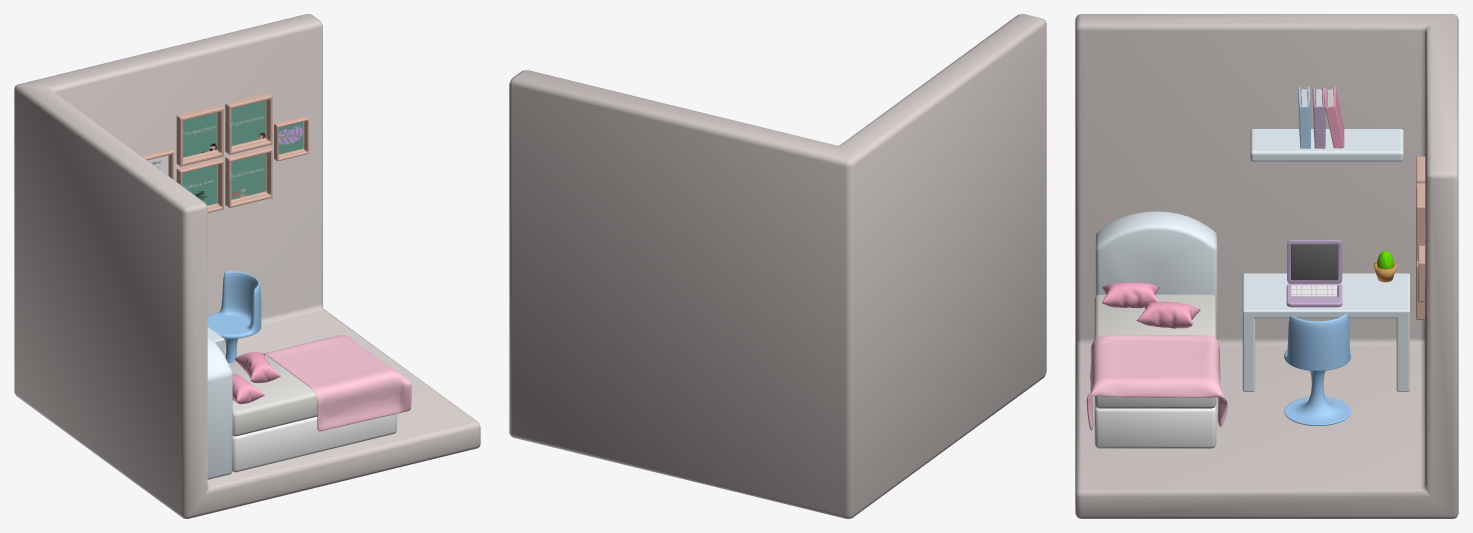
The picture shows the model from 3 angles, left to right: view 1: azimuth 30°, elevation 25°; view 2: azimuth 150°, elevation 25°; view 3: azimuth 270°, elevation 25°; orthographic projection. The views are drawn at different scales.
Parts seen in each view (by area): view 1: Cube, Plano017, Plano005, Plano, Plano002, Plano001, Cilindro001, Plano004, Plano003; view 2: Cube; view 3: Cube, Plano001, Plano005, Plano006, Cilindro001, Plano, Plano002, Plano010, Plano009_1, Plano017, Plano004, Plano003 (+7 smaller).
Boxes of the visible parts, box(x1,y1,x2,y2) form: Cube: box(14, 14, 480, 518); Plano017: box(141, 93, 308, 212); Plano005: box(263, 335, 411, 431); Plano: box(232, 414, 396, 472); Plano002: box(228, 354, 317, 436); Plano001: box(207, 335, 232, 479); Cilindro001: box(207, 271, 261, 363); Plano004: box(234, 352, 280, 383); Plano003: box(232, 374, 264, 404); Cube: box(509, 14, 1046, 518); Cube: box(1075, 14, 1458, 518); Plano001: box(1095, 211, 1217, 339); Plano005: box(1086, 335, 1228, 430); Plano006: box(1242, 273, 1409, 391); Cilindro001: box(1284, 313, 1350, 426); Plano: box(1094, 405, 1216, 448); Plano002: box(1094, 294, 1216, 408); Plano010: box(1250, 129, 1403, 161); Plano009_1: box(1291, 244, 1338, 280); Plano017: box(1416, 156, 1425, 319); Plano004: box(1136, 301, 1200, 328); Plano003: box(1102, 282, 1159, 308).
Size of the model in its own units: 8.54 by 8.54 by 8.54.
Materials: 26 (6 with a texture image).
